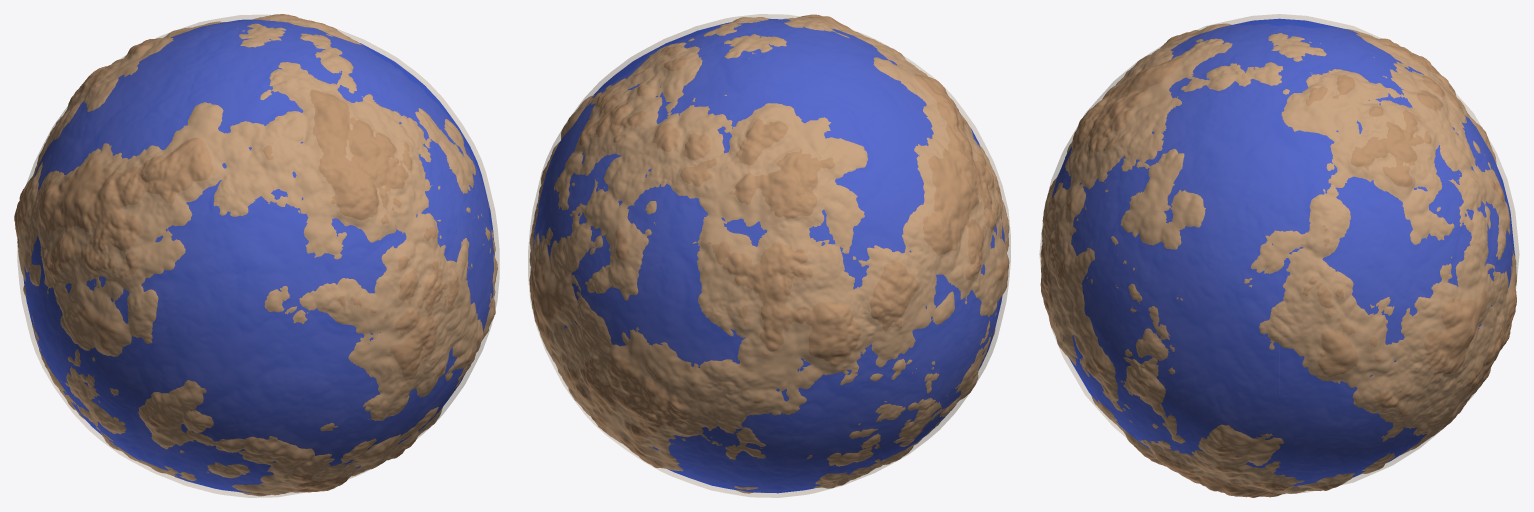
Rendered from Planet1.fbx.
3 views of the same model, side by side, from view 1: azimuth 30°, elevation 25°; view 2: azimuth 150°, elevation 25°; view 3: azimuth 270°, elevation 25° (orthographic).
Parts seen in each view (by area): view 1: CLOUDS, PLANET, OCEAN; view 2: CLOUDS, PLANET, OCEAN; view 3: CLOUDS, PLANET, OCEAN.
Boxes of the visible parts, x1,y1,x2,y2 form: CLOUDS: (17, 15, 499, 497); PLANET: (14, 14, 497, 496); OCEAN: (23, 19, 494, 492); CLOUDS: (528, 14, 1010, 497); PLANET: (529, 14, 1009, 493); OCEAN: (533, 19, 1004, 493); CLOUDS: (1039, 14, 1519, 493); PLANET: (1040, 23, 1516, 497); OCEAN: (1052, 18, 1514, 486).
Bounding box in the file's own units: 189 × 190 × 189.
